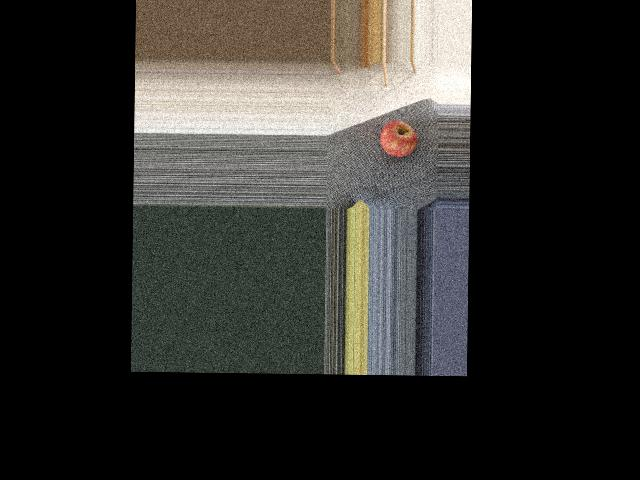apple: (379, 118, 420, 160)
